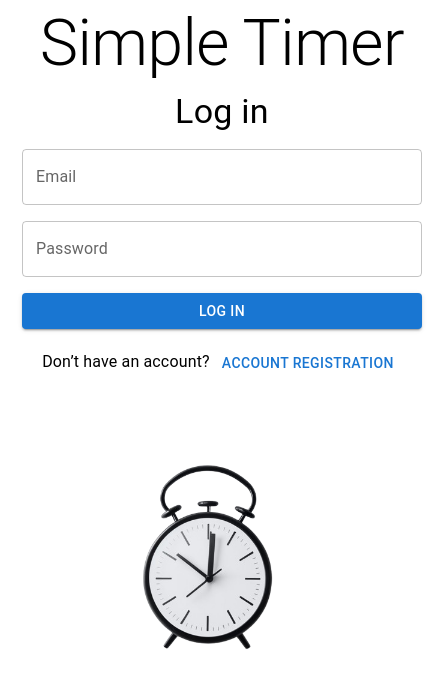
Login Page › shows error message on incorrect login
This screenshot has width=445, height=678.
Type "wrong@example.com" into the field labelled "Email".
click(222, 177); type("wrong@example.com")  # box [22,149,422,205]
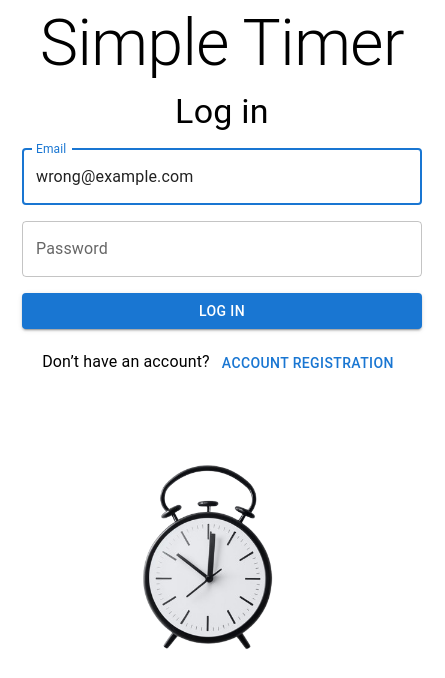
Type "WrongPass1!" into the password field labelled "Password".
click(222, 249); type("WrongPass1!")  # box [22,221,422,277]
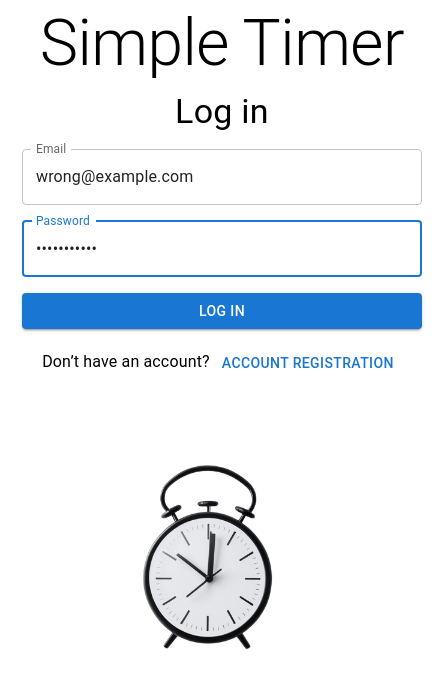
Click the button "Log in".
click(222, 312)  # box [22,293,422,330]
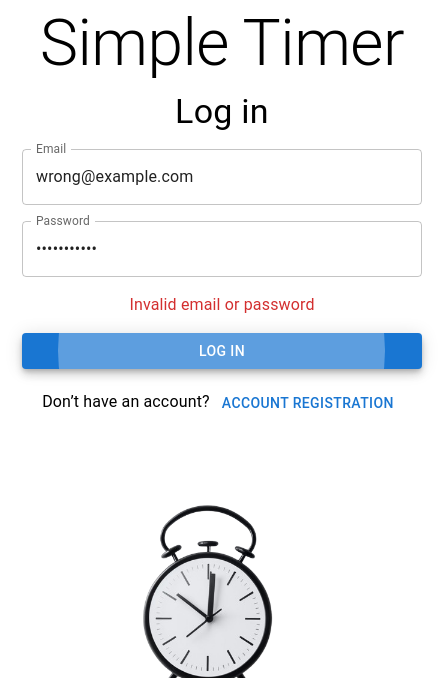
Expected: the text "Invalid email or password" is shown, [129,295,315,314]
